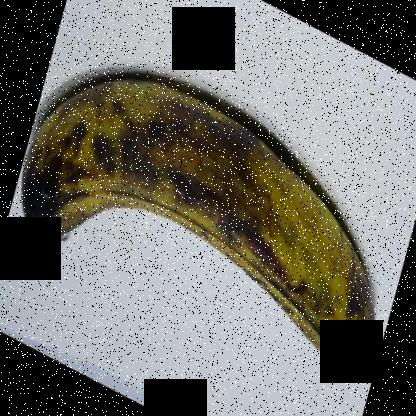overripe: (1, 30, 398, 378)
